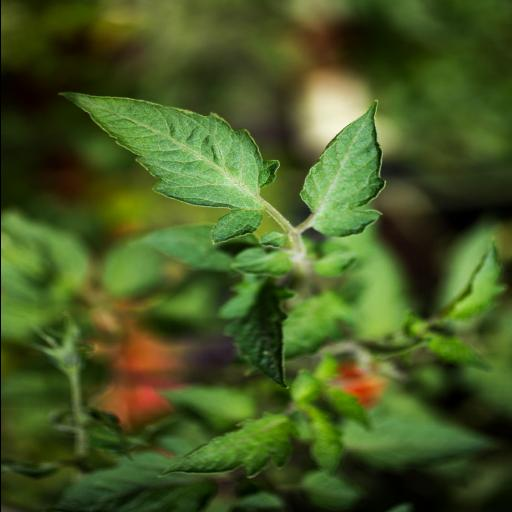Healthy: (48, 92, 276, 244), (298, 82, 394, 254)
